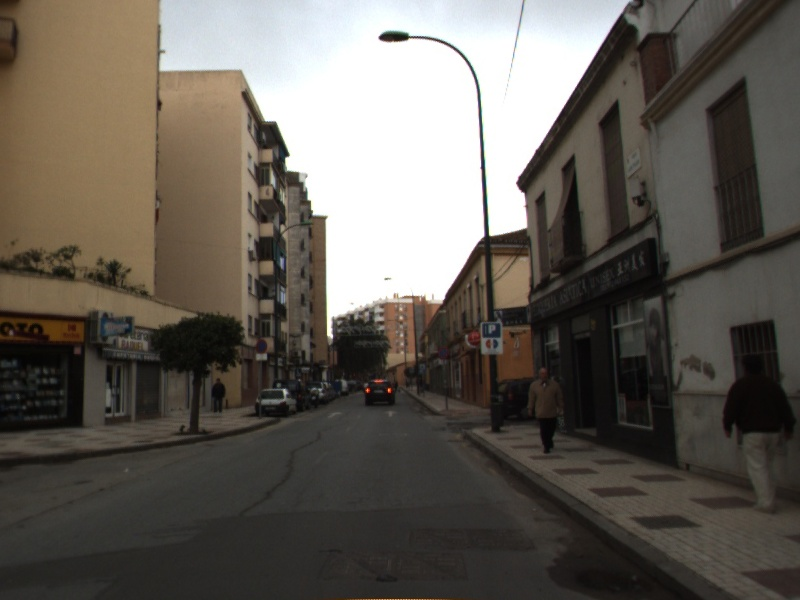STRAIGHT: (325, 410, 344, 420), (382, 408, 400, 418)
